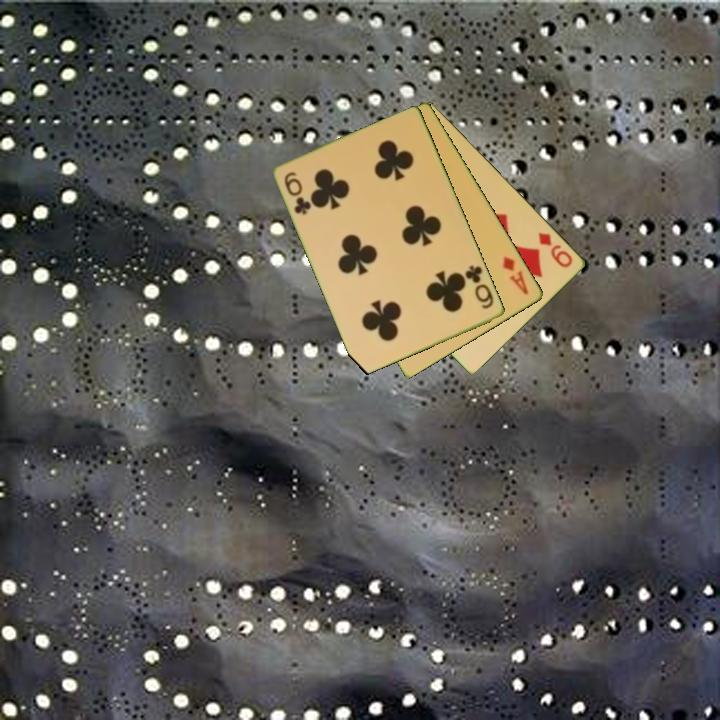6c: (462, 261, 497, 312), (281, 168, 314, 218)
9d: (535, 229, 576, 271)
Ad: (499, 253, 532, 298)
